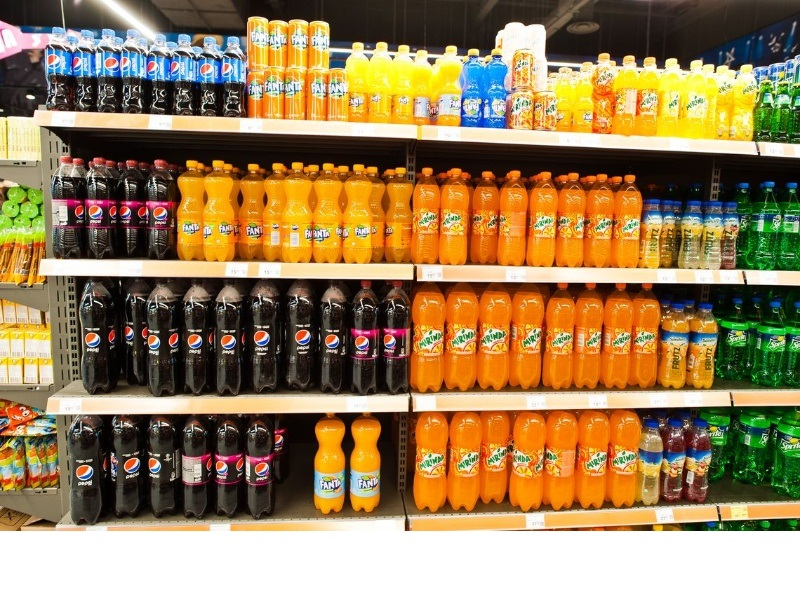lemonade: (73, 275, 128, 399), (304, 412, 357, 520), (61, 412, 107, 530), (142, 276, 185, 398), (405, 280, 449, 396), (279, 278, 320, 402), (536, 280, 580, 395), (244, 276, 284, 399), (207, 278, 247, 400), (411, 409, 456, 516), (177, 276, 216, 399), (44, 156, 88, 264), (78, 157, 121, 265), (346, 410, 388, 520), (237, 411, 279, 521), (570, 283, 609, 397), (597, 282, 637, 393), (346, 278, 381, 400), (141, 159, 182, 263), (377, 279, 413, 397), (311, 161, 351, 267), (278, 161, 319, 264), (315, 279, 350, 399), (201, 161, 240, 265), (493, 169, 533, 267), (113, 160, 150, 261), (410, 168, 446, 268), (343, 163, 376, 271), (174, 159, 208, 263), (39, 25, 78, 115), (554, 174, 589, 272), (441, 166, 472, 267), (586, 171, 617, 270), (116, 30, 148, 116), (218, 36, 250, 120), (616, 175, 644, 269), (195, 35, 226, 119)
